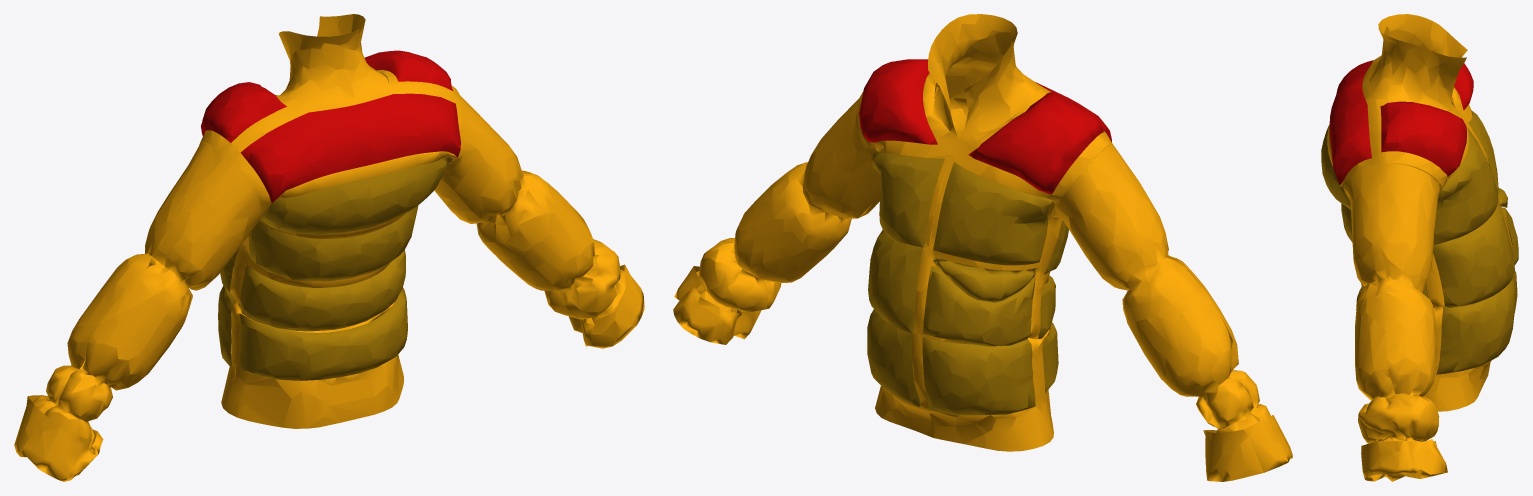
File: DownJacket1.fbx
3 renders of one model, left to right at view 1: azimuth 30°, elevation 25°; view 2: azimuth 150°, elevation 25°; view 3: azimuth 270°, elevation 25°, orthographic. The views are drawn at different scales.
Parts seen in each view (by area): view 1: Pattern2D_94186; view 2: Pattern2D_94186; view 3: Pattern2D_94186.
Boxes of the visible parts, x1=… form: Pattern2D_94186: x1=14, y1=14, x2=644, y2=481; Pattern2D_94186: x1=673, y1=14, x2=1292, y2=481; Pattern2D_94186: x1=1321, y1=14, x2=1518, y2=481.
Bounding box in the file's own units: 13.06 × 7.79 × 3.97.
